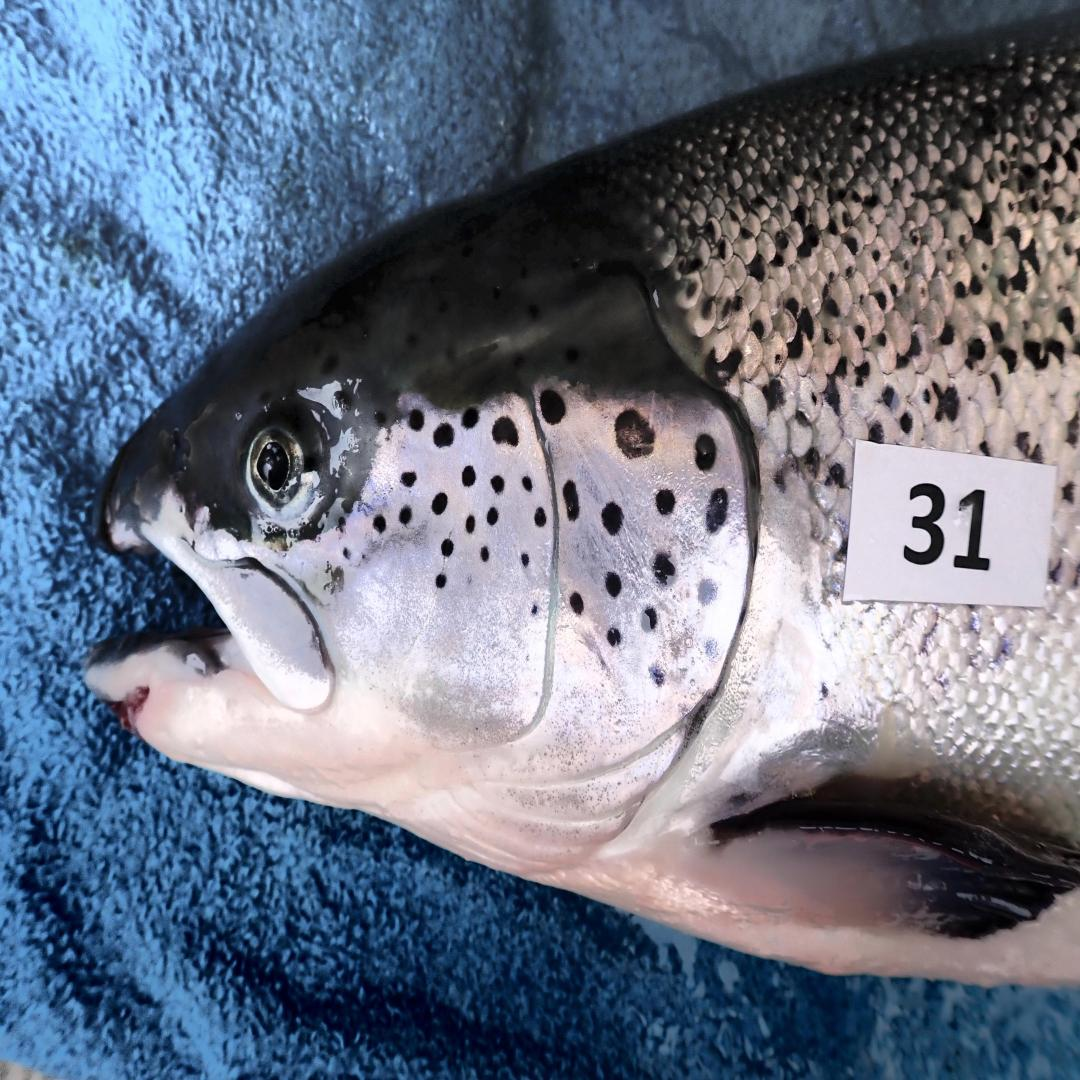spot: (614, 411, 654, 458), (540, 388, 565, 425), (707, 489, 728, 532), (491, 416, 519, 447), (694, 433, 717, 470), (654, 551, 675, 585), (601, 501, 622, 534), (563, 481, 580, 520), (698, 577, 719, 608), (702, 636, 724, 664), (432, 422, 454, 447), (656, 489, 675, 515), (641, 608, 658, 633), (605, 571, 622, 596), (570, 591, 584, 616), (462, 464, 477, 487), (432, 492, 447, 515), (462, 408, 479, 428), (409, 409, 424, 430), (650, 664, 664, 686), (608, 627, 622, 647), (441, 537, 454, 557), (534, 506, 546, 526), (399, 506, 411, 526), (401, 472, 416, 487), (491, 475, 504, 492), (521, 475, 534, 492), (373, 515, 386, 532), (487, 506, 498, 526), (466, 515, 477, 534), (435, 574, 447, 588), (521, 551, 529, 568), (481, 546, 489, 562), (342, 548, 352, 560), (532, 605, 540, 616)
